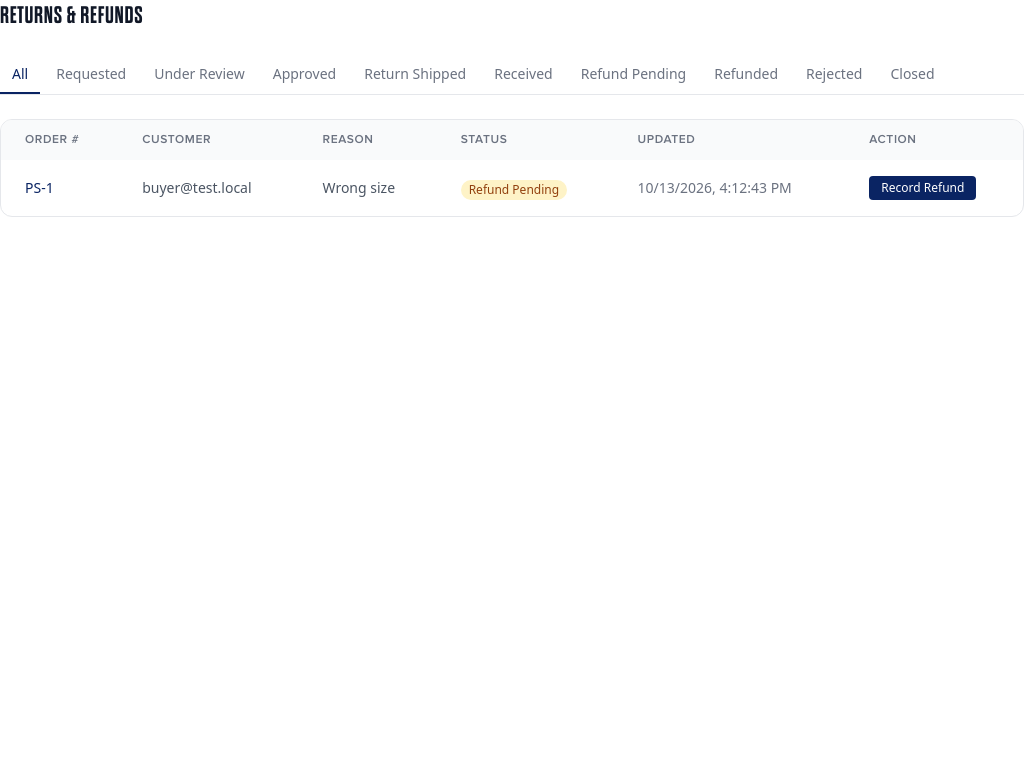
Test: AdminReturns — refund scope banner › shows only THIS return’s progress, never another return’s succeeded refund
Click the button "Record Refund" at (923, 188), box [869,176,976,200]
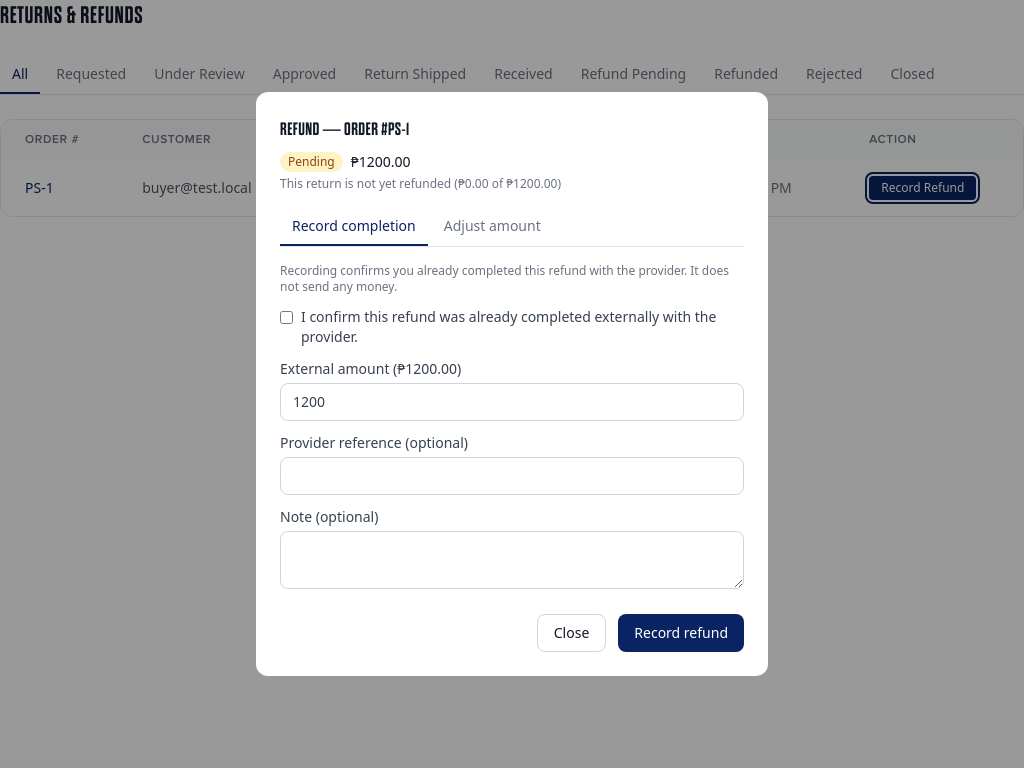
expect the heading "Refund — Order #PS-1" is shown: met, box [280,119,410,140]
expect the text with test id "refund-scope-banner" shows "This return": met, box [280,175,354,192]
expect the text with test id "refund-scope-banner" shows "not yet refunded": met, box [357,175,561,192]
